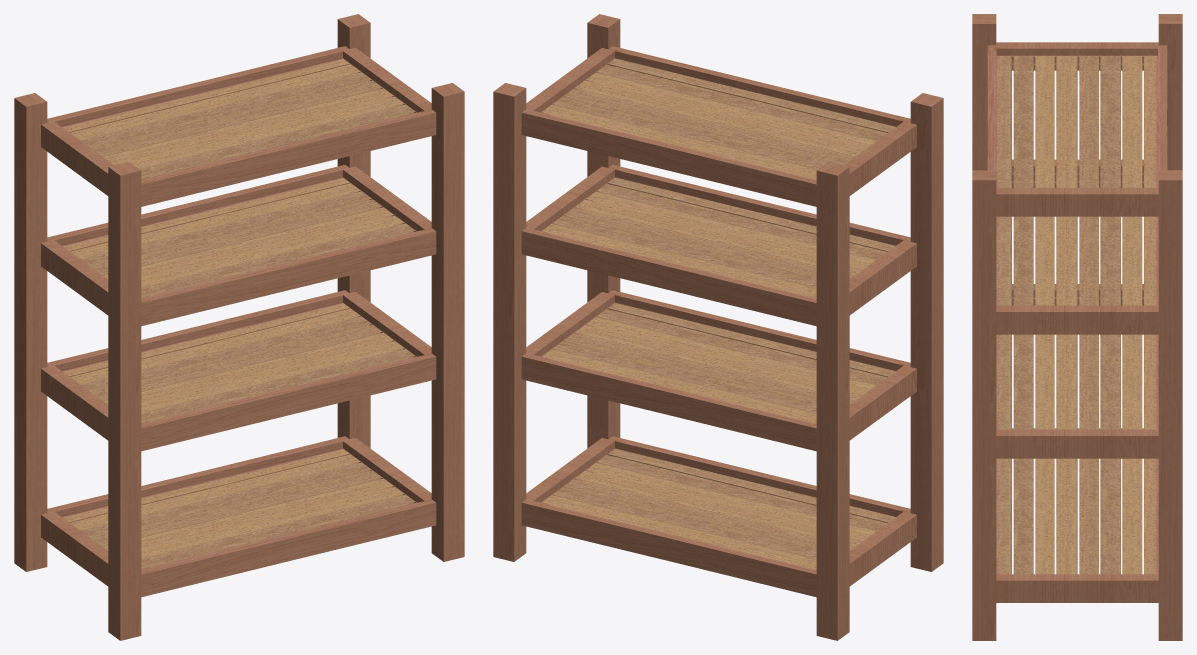
Rendered from shelf.fbx.
3 renders of one model, left to right at view 1: azimuth 30°, elevation 25°; view 2: azimuth 150°, elevation 25°; view 3: azimuth 270°, elevation 25°, orthographic.
Parts seen in each view (by area): view 1: shelfMesh; view 2: shelfMesh; view 3: shelfMesh.
Boxes of the visible parts, x1,y1,x2,y2 form: shelfMesh: (14,14,464,640); shelfMesh: (493,14,943,640); shelfMesh: (972,14,1182,640).
Size of the model in its own units: 132 by 170 by 70.31.
